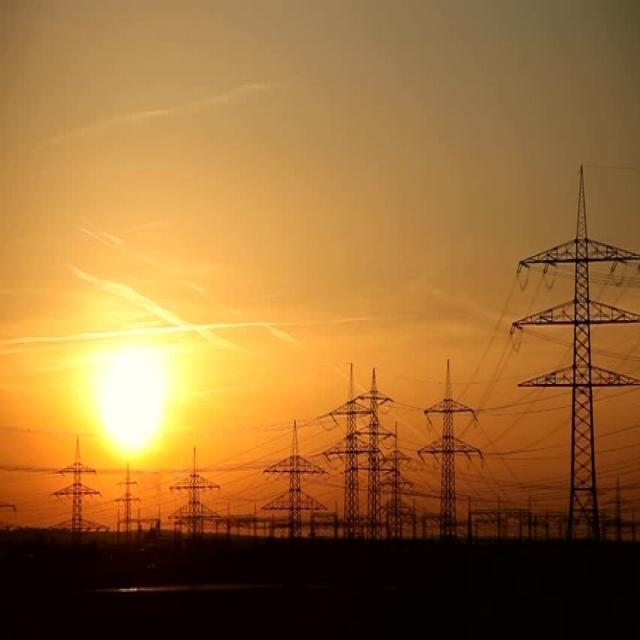non-critical vegetation: (522, 189, 632, 538), (420, 344, 476, 528), (323, 380, 369, 538), (262, 418, 318, 545), (49, 435, 100, 543), (168, 444, 222, 542), (364, 371, 394, 526)
